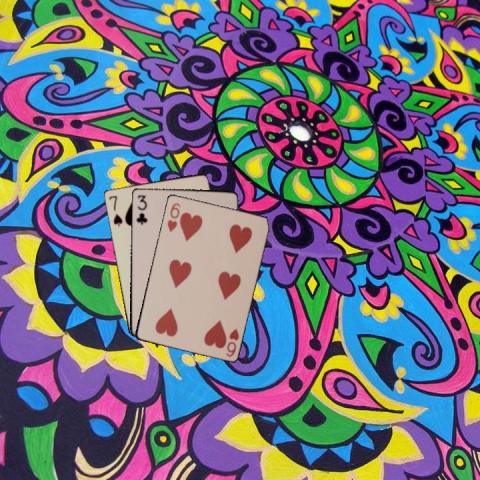3c: (133, 192, 148, 226)
6h: (164, 200, 181, 234), (223, 325, 240, 358)
7s: (106, 193, 123, 228)
